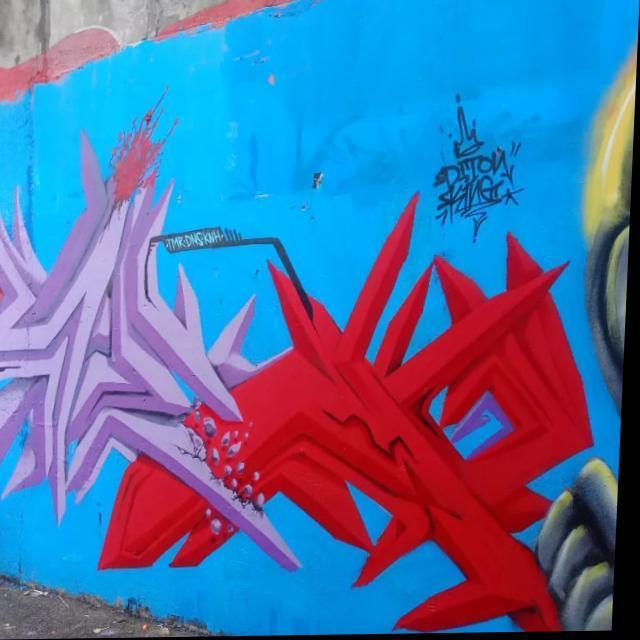-: (0, 147, 597, 640), (428, 76, 530, 260), (160, 222, 245, 262)
